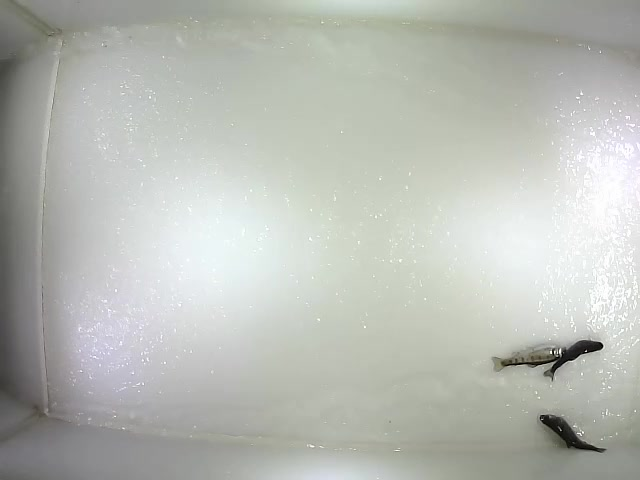fish: (538, 414, 609, 455), (542, 338, 604, 383), (489, 342, 568, 374)
